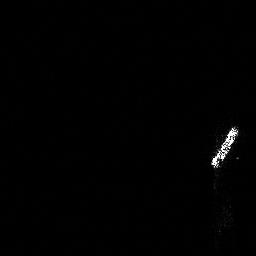ship: (208, 124, 242, 172)
